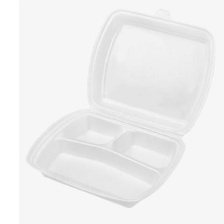foam_box: (21, 0, 222, 212)
